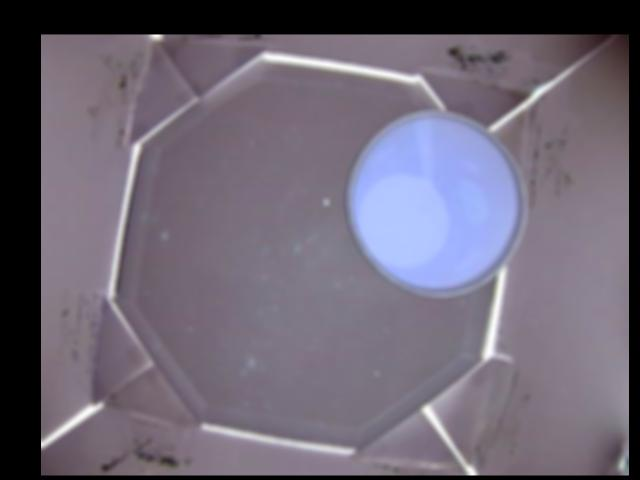Cup: (346, 109, 529, 296)
